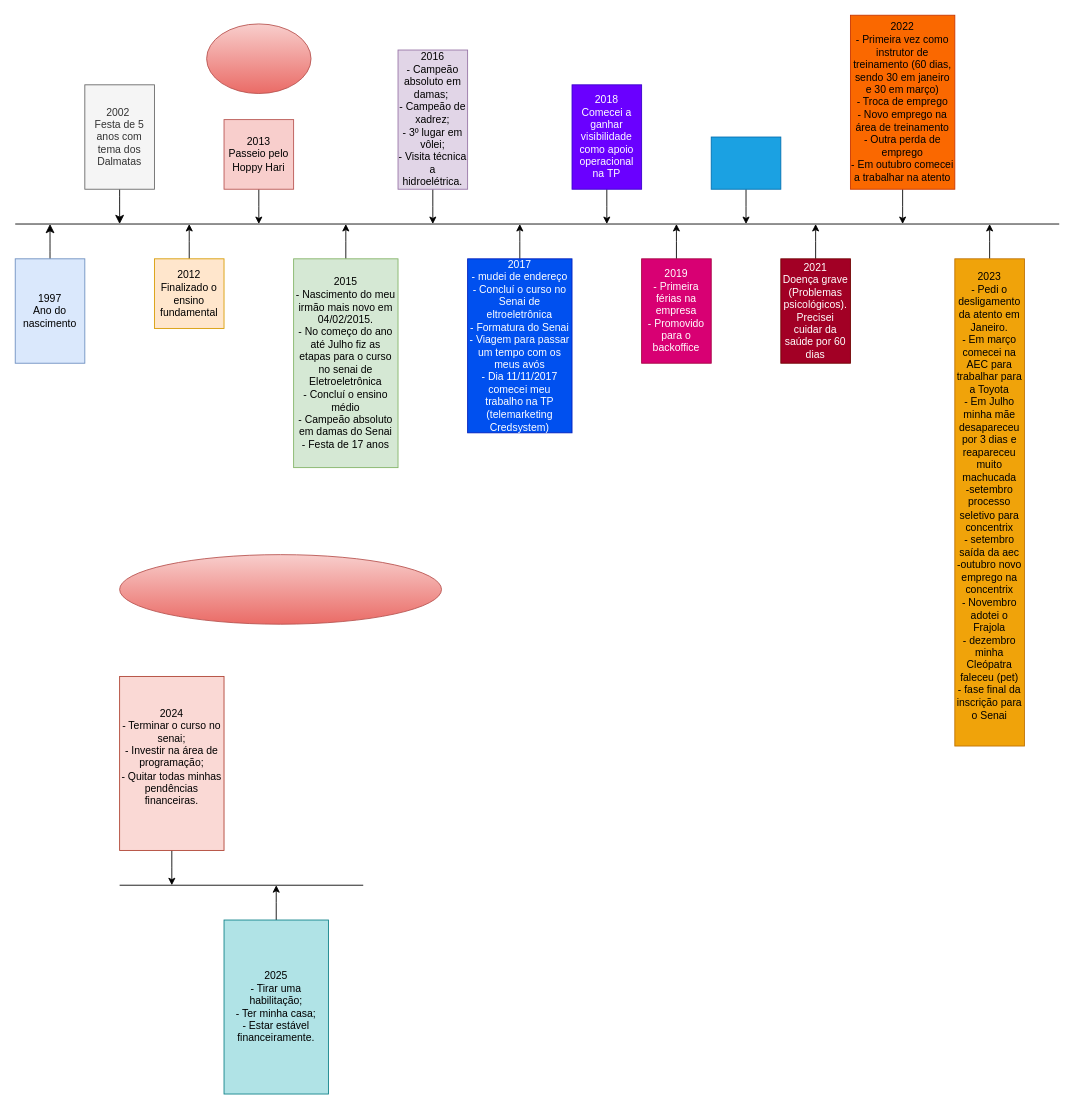
This 1075x1109 diagram has some shape labels left out. The shapes that lost their labels are listed below. From the top down, each one's centre as x and y in pixels, then its label:
the point at 258,58: Linha do passado
the point at 745,162: 2020 comecei o home office
the point at 280,589: Linha do Futuro
